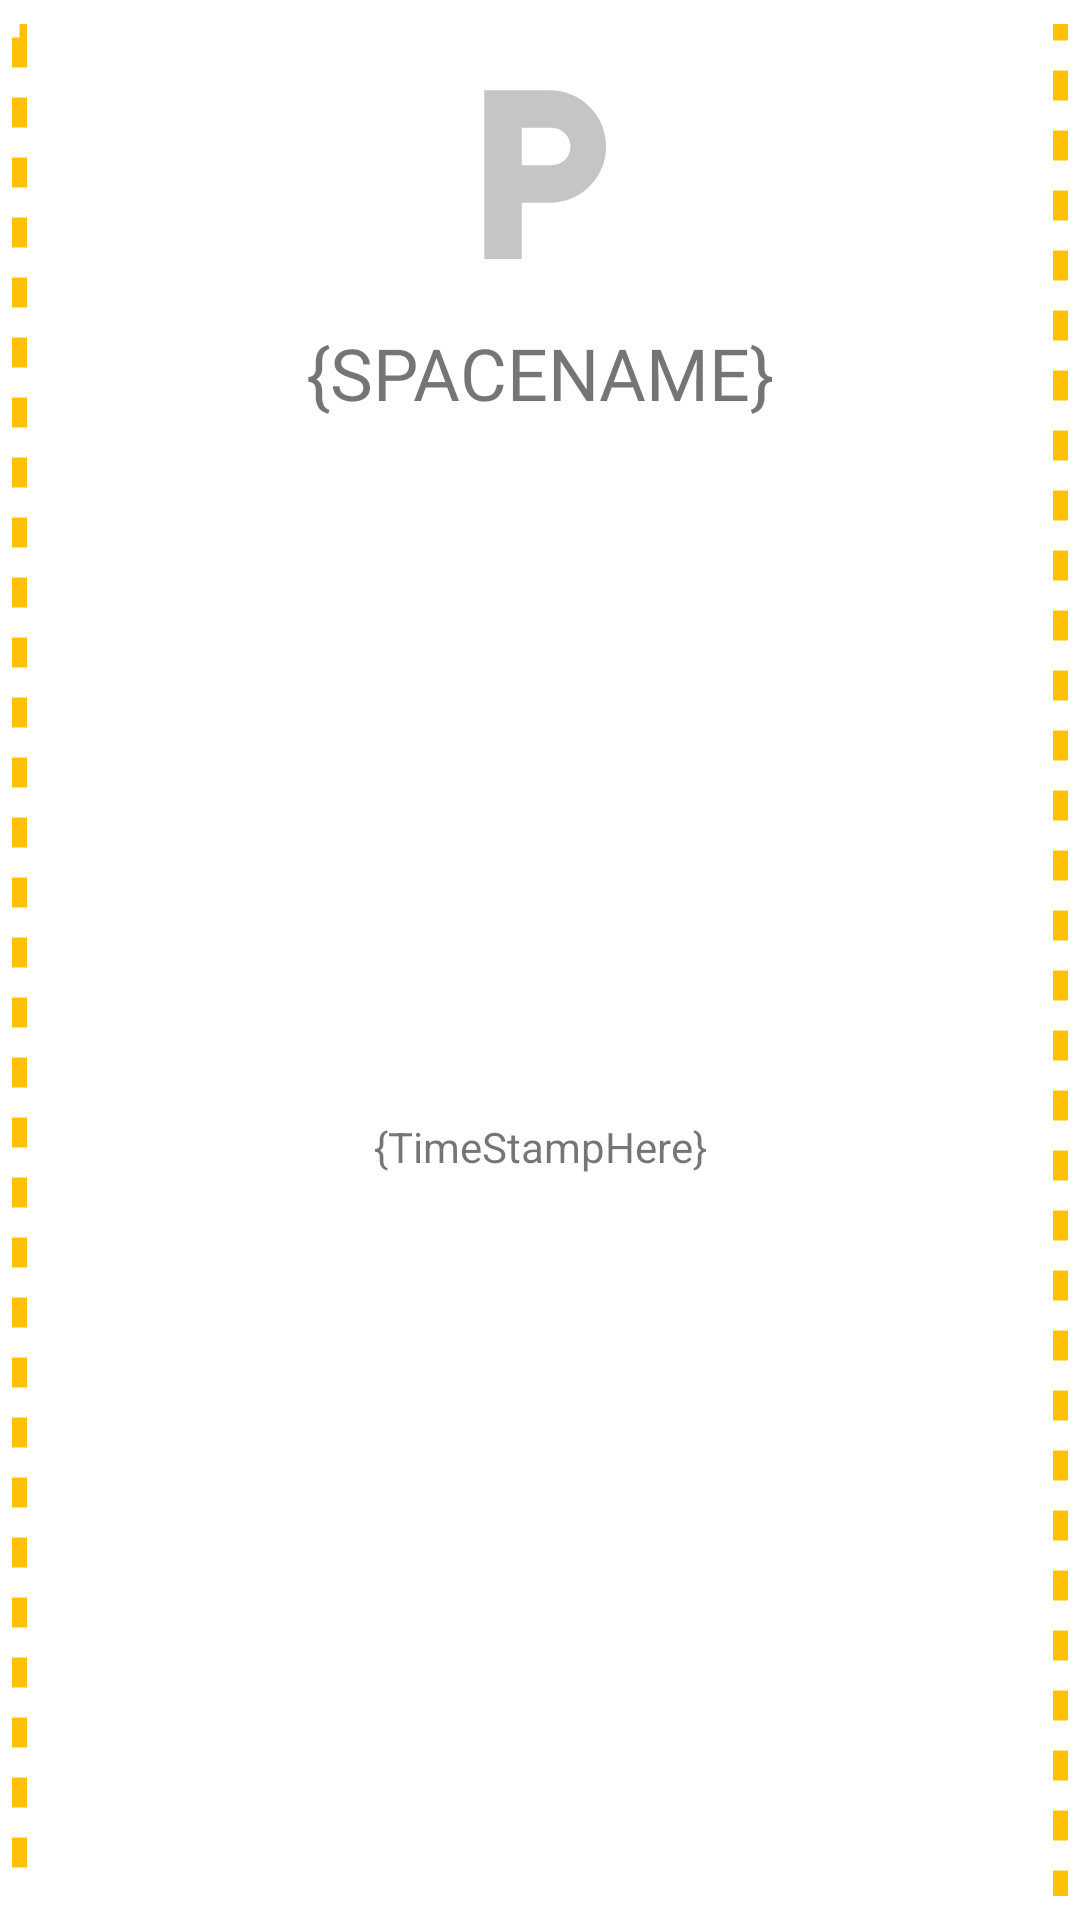

Where icons sit on this 1080w x 1920h app screen, as (x1, y1, x2, y2):
parking: (484, 90, 606, 259)
